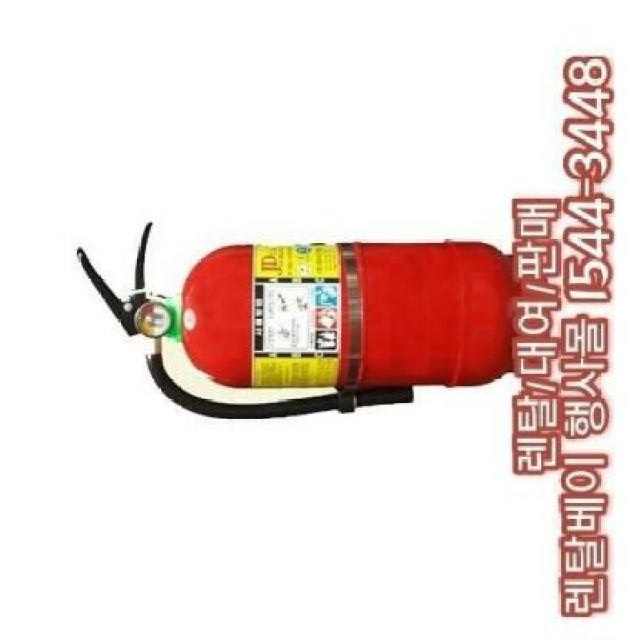fire extinguisher: (76, 222, 515, 422)
